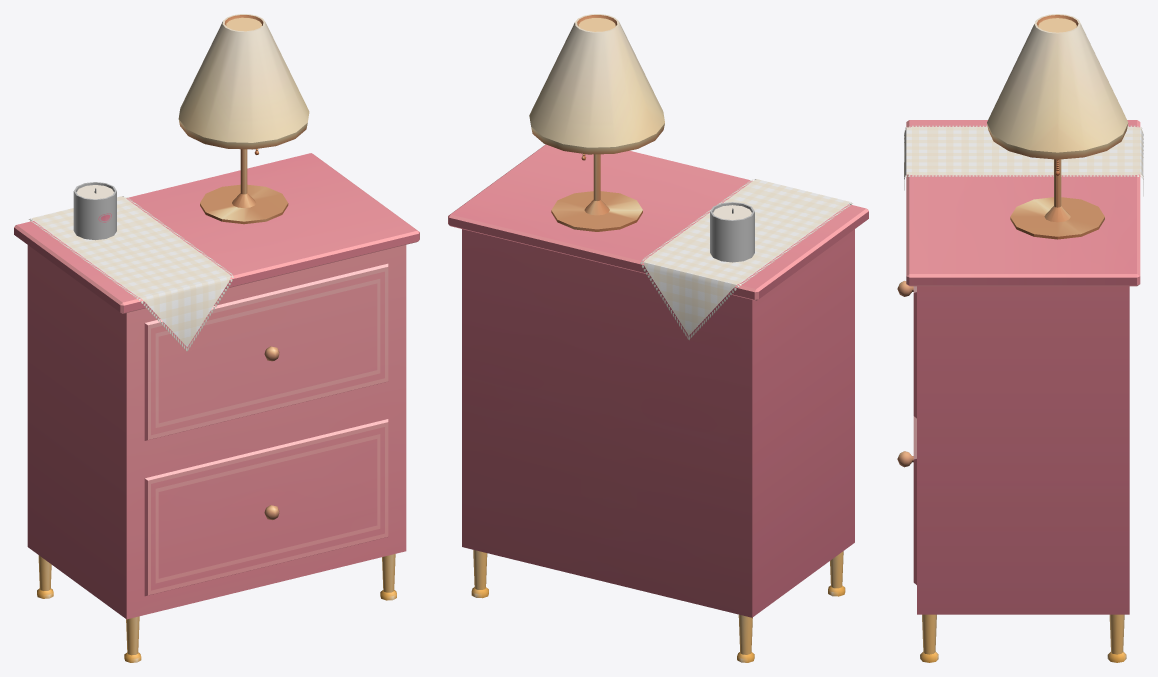
File: Doll_OB_Sidetable_001.FBX
The picture shows the model from 3 angles, left to right: view 1: azimuth 30°, elevation 25°; view 2: azimuth 150°, elevation 25°; view 3: azimuth 270°, elevation 25°; orthographic projection. The views are drawn at different scales.
Visible parts, largest first — view 1: Doll_OB_Sidetable_001, Doll_OB_Sidetable_001_1, Doll_OB_Sidetable_001_light, Doll_OB_Sidetable_001_glass; view 2: Doll_OB_Sidetable_001, Doll_OB_Sidetable_001_light, Doll_OB_Sidetable_001_1, Doll_OB_Sidetable_001_glass; view 3: Doll_OB_Sidetable_001, Doll_OB_Sidetable_001_light, Doll_OB_Sidetable_001_1.
Boxes of the visible parts, bbox=[...] form: Doll_OB_Sidetable_001: bbox=[14, 149, 419, 662]; Doll_OB_Sidetable_001_1: bbox=[29, 149, 258, 351]; Doll_OB_Sidetable_001_light: bbox=[178, 14, 309, 149]; Doll_OB_Sidetable_001_glass: bbox=[73, 182, 116, 240]; Doll_OB_Sidetable_001: bbox=[448, 144, 868, 662]; Doll_OB_Sidetable_001_light: bbox=[529, 14, 664, 154]; Doll_OB_Sidetable_001_1: bbox=[581, 154, 852, 340]; Doll_OB_Sidetable_001_glass: bbox=[710, 202, 754, 262]; Doll_OB_Sidetable_001: bbox=[897, 120, 1140, 662]; Doll_OB_Sidetable_001_light: bbox=[987, 14, 1128, 159]; Doll_OB_Sidetable_001_1: bbox=[904, 125, 1143, 196].
Size of the model in its own units: 46.39 by 81.5 by 30.8.
